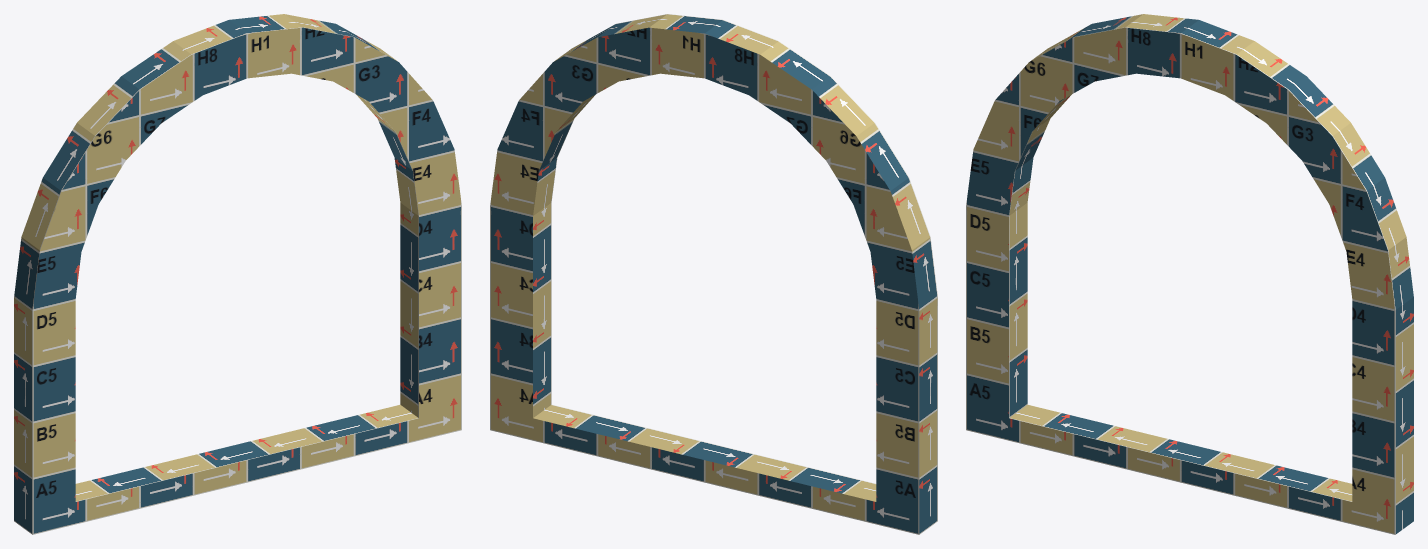
File: WINDOW_Arched.fbx
3 views of the same model, side by side, from view 1: azimuth 30°, elevation 25°; view 2: azimuth 150°, elevation 25°; view 3: azimuth 330°, elevation 25° (orthographic).
Parts seen in each view (by area): view 1: WINDOW_Arched; view 2: WINDOW_Arched; view 3: WINDOW_Arched.
Boxes of the visible parts, x1,y1,x2,y2 form: WINDOW_Arched: [14, 14, 461, 534]; WINDOW_Arched: [490, 14, 937, 534]; WINDOW_Arched: [966, 14, 1413, 534].
Size of the model in its own units: 200 by 200 by 15.
Materials: 1 (1 with a texture image).
